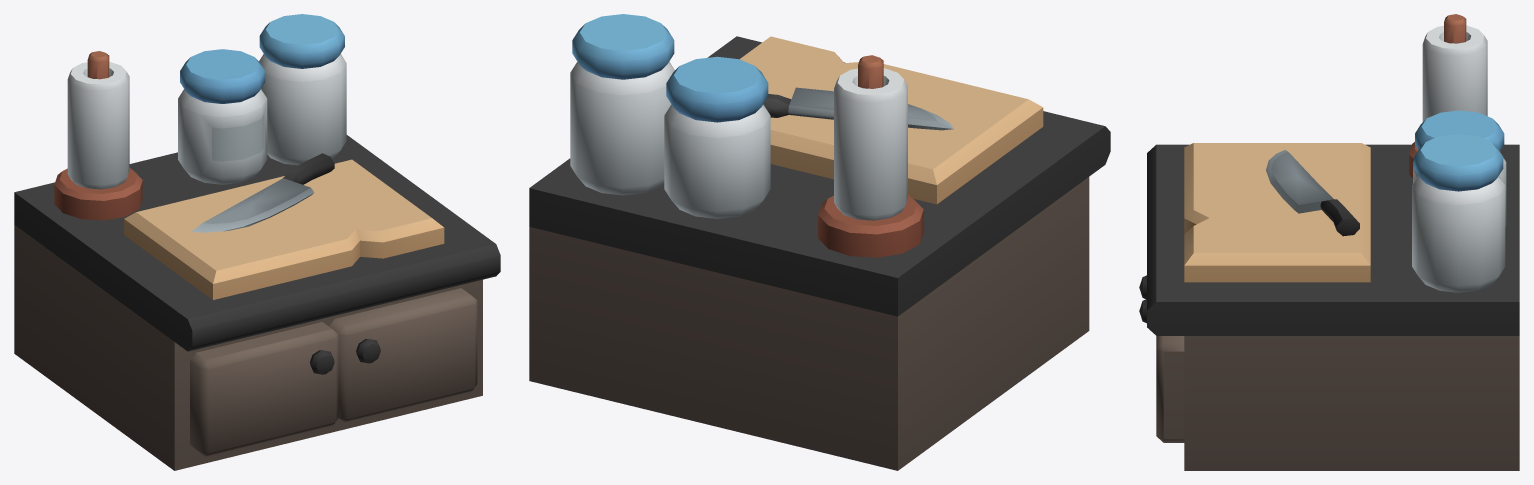
The model's file is kitchencounter_straight_decorated_styleB.obj.
3 renders of one model, left to right at view 1: azimuth 30°, elevation 25°; view 2: azimuth 150°, elevation 25°; view 3: azimuth 270°, elevation 25°, orthographic. The views are drawn at different scales.
Parts seen in each view (by area): view 1: kitchencounter_straight_decorated_styleB_Cube.025; view 2: kitchencounter_straight_decorated_styleB_Cube.025; view 3: kitchencounter_straight_decorated_styleB_Cube.025.
Part boxes in pixels (x1,y1,x2,y2): kitchencounter_straight_decorated_styleB_Cube.025: [14, 14, 500, 470]; kitchencounter_straight_decorated_styleB_Cube.025: [529, 14, 1110, 470]; kitchencounter_straight_decorated_styleB_Cube.025: [1139, 14, 1519, 470].
Bounding box in the file's own units: 2 × 1.91 × 2.04.
1 material, 1 textured.
